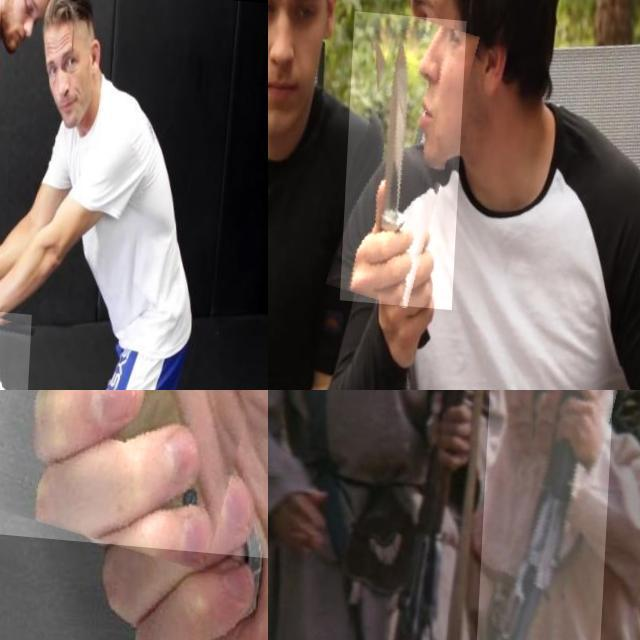-: (0, 390, 268, 621), (344, 6, 468, 302), (0, 302, 47, 390)
gun-knife-thesis - v11 Yolov5 augmented: (475, 390, 620, 640), (382, 390, 488, 640)
